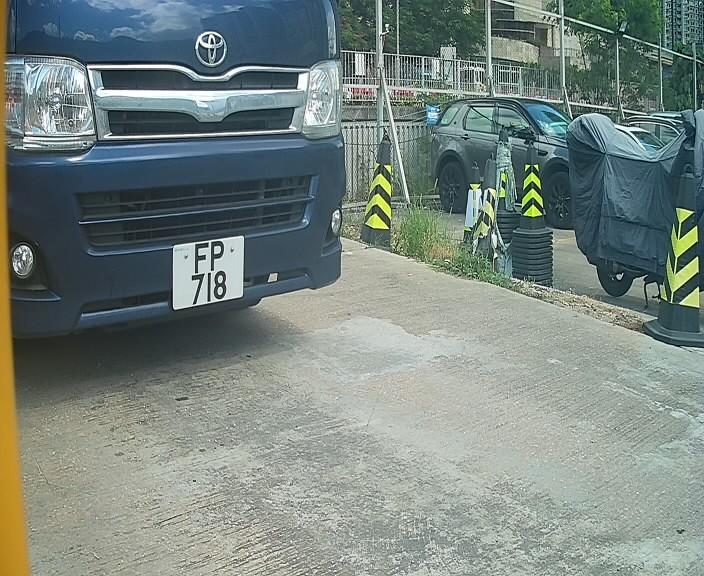License Plate: (167, 235, 249, 309)
